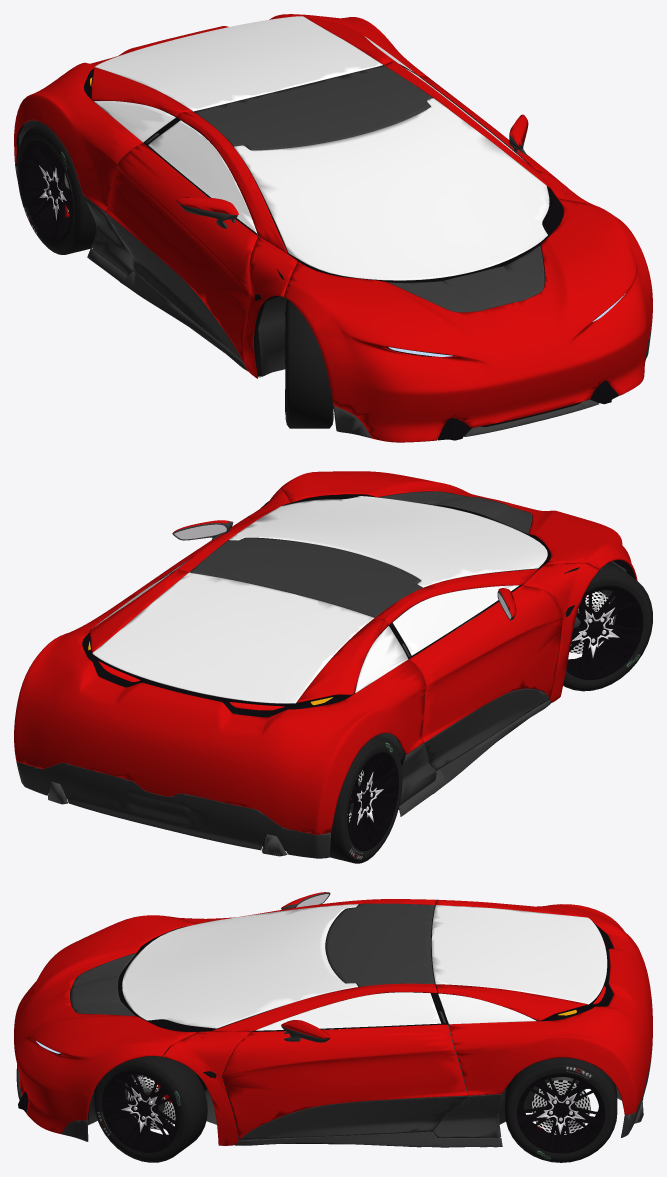
File: concept.glb
The picture shows the model from 3 angles, top to bottom: view 1: azimuth 30°, elevation 25°; view 2: azimuth 150°, elevation 25°; view 3: azimuth 270°, elevation 25°; orthographic projection. The views are drawn at different scales.
Parts seen in each view (by area): view 1: BodyHood, BodyWindshield, BodyRearwindow, BodyDoorRColor1, BodyRearPanelsColor1, BodyRoofPanel, BodyPillars, BodyPanelsColor2, BodyHoodTopgrill, WheelFrontR, BodyDoorRWindow, WheelRearRRim (+8 smaller); view 2: BodyRearPanelsColor1, BodyRearwindow, BodyWindshield, BodyPanelsColor2, BodyDoorRColor1, BodyRoofPanel, BodyHood, BodyPillars, WheelFrontRRim, BodyDoorRColor2, WheelRearRRim, BodyDoorRWindow (+6 smaller); view 3: BodyWindshield, BodyRearPanelsColor1, BodyDoorLColor1, BodyHood, BodyRearwindow, BodyRoofPanel, BodyPillars, BodyDoorLColor2, BodyPanelsColor2, WheelFrontL, WheelRearLRim, WheelFrontLRim (+12 smaller).
Boxes of the visible parts, left/top/right/bottom form: BodyHood: left=283, top=198, right=652, bottom=442; BodyWindshield: left=234, top=98, right=549, bottom=280; BodyRearwindow: left=94, top=16, right=382, bottom=111; BodyDoorRColor1: left=104, top=143, right=257, bottom=362; BodyRearPanelsColor1: left=14, top=14, right=428, bottom=210; BodyRoofPanel: left=193, top=65, right=432, bottom=150; BodyPillars: left=176, top=61, right=598, bottom=378; BodyPanelsColor2: left=15, top=163, right=651, bottom=438; BodyHoodTopgrill: left=388, top=245, right=544, bottom=312; WheelFrontR: left=285, top=299, right=333, bottom=428; BodyDoorRWindow: left=148, top=120, right=257, bottom=234; WheelRearRRim: left=20, top=140, right=73, bottom=241; BodyRearPanelsColor1: left=14, top=569, right=425, bottom=834; BodyRearwindow: left=92, top=572, right=373, bottom=703; BodyWindshield: left=229, top=496, right=547, bottom=587; BodyPanelsColor2: left=16, top=700, right=550, bottom=858; BodyDoorRColor1: left=409, top=585, right=562, bottom=742; BodyRoofPanel: left=189, top=537, right=422, bottom=617; BodyHood: left=279, top=471, right=637, bottom=580; BodyPillars: left=175, top=489, right=599, bottom=702; WheelFrontRRim: left=566, top=585, right=643, bottom=679; BodyDoorRColor2: left=424, top=688, right=549, bottom=769; WheelRearRRim: left=347, top=752, right=398, bottom=850; BodyDoorRWindow: left=392, top=585, right=519, bottom=655; BodyWindshield: left=122, top=904, right=358, bottom=1028; BodyRearPanelsColor1: left=436, top=899, right=652, bottom=1115; BodyDoorLColor1: left=222, top=1024, right=467, bottom=1140; BodyHood: left=14, top=915, right=196, bottom=1133; BodyRearwindow: left=431, top=905, right=607, bottom=1004; BodyRoofPanel: left=326, top=903, right=434, bottom=986; BodyPillars: left=163, top=899, right=437, bottom=1145; BodyDoorLColor2: left=240, top=1096, right=467, bottom=1140; BodyPanelsColor2: left=16, top=1050, right=652, bottom=1147; WheelFrontL: left=93, top=1054, right=207, bottom=1162; WheelRearLRim: left=517, top=1073, right=605, bottom=1153; WheelFrontLRim: left=102, top=1070, right=178, bottom=1152.
Bounding box in the file's own units: 2.54 × 1.15 × 4.36.
22 materials, 5 textured.
